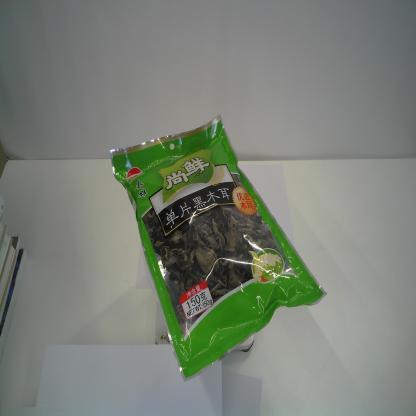Dried Food: (108, 113, 328, 383)
